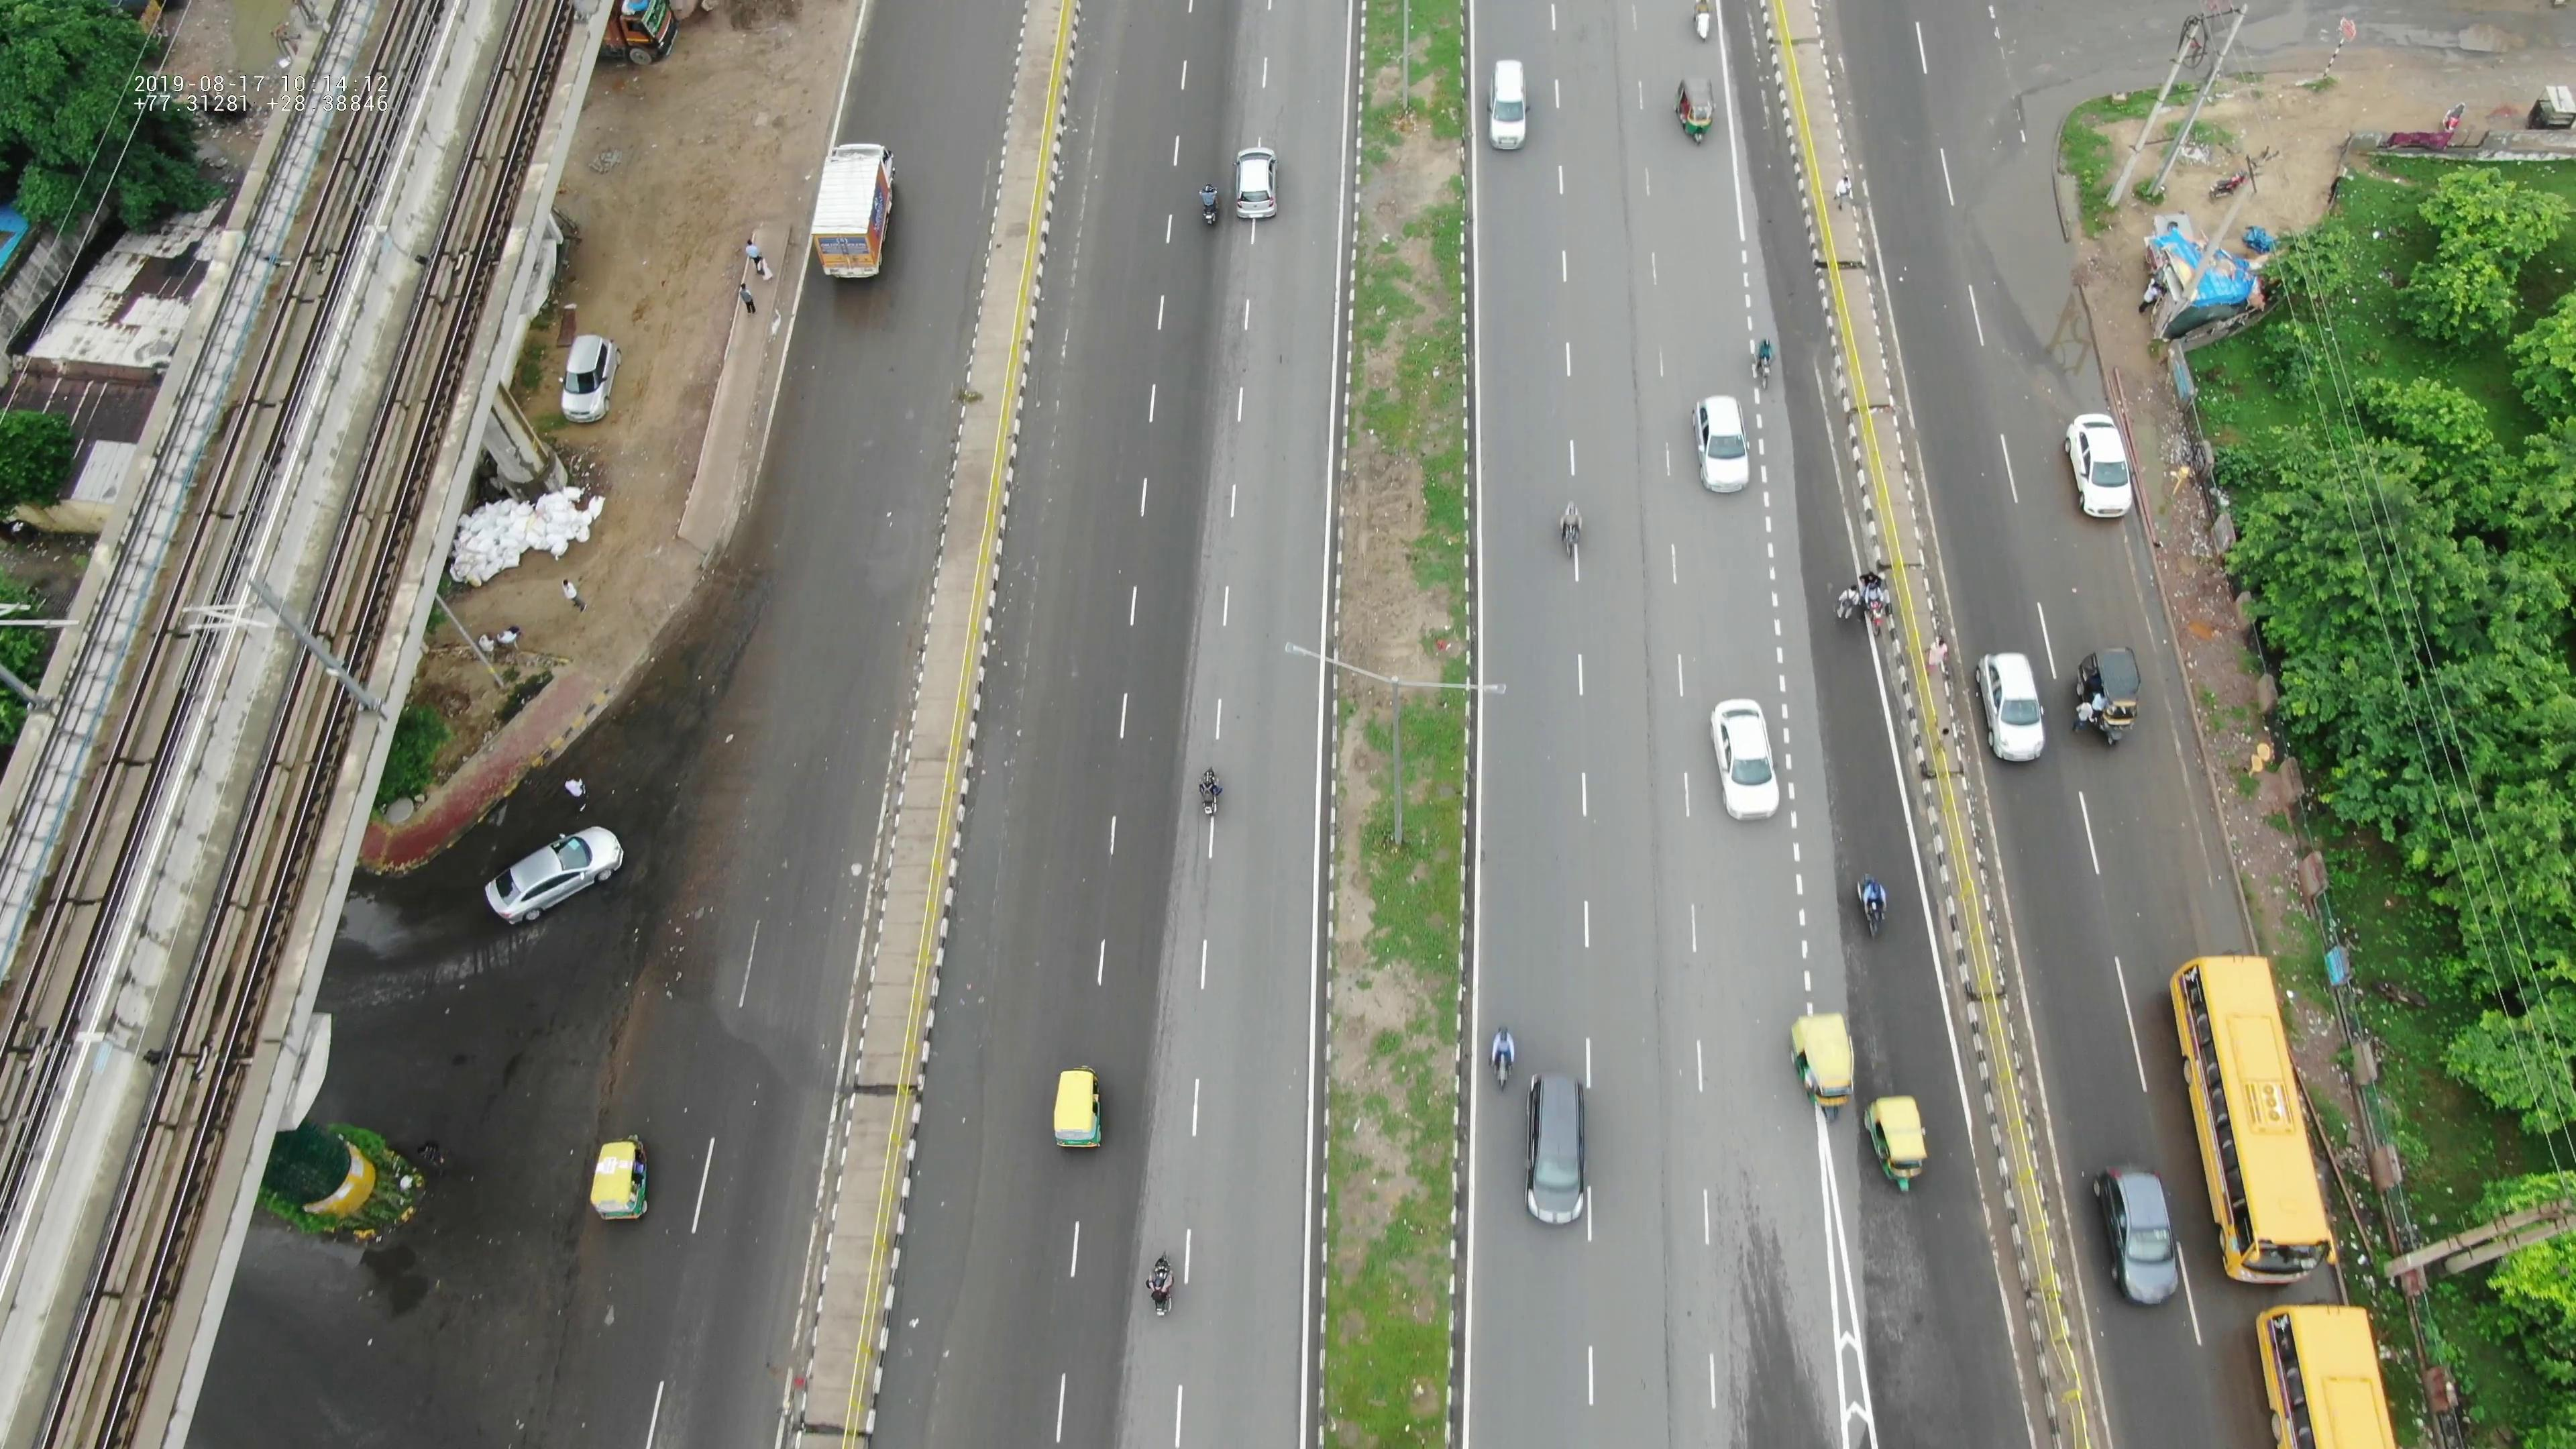Ravelling: (1621, 787, 1714, 1093), (1633, 1120, 1721, 1433), (1601, 255, 1684, 476), (1619, 494, 1688, 752), (1587, 16, 1672, 212)
